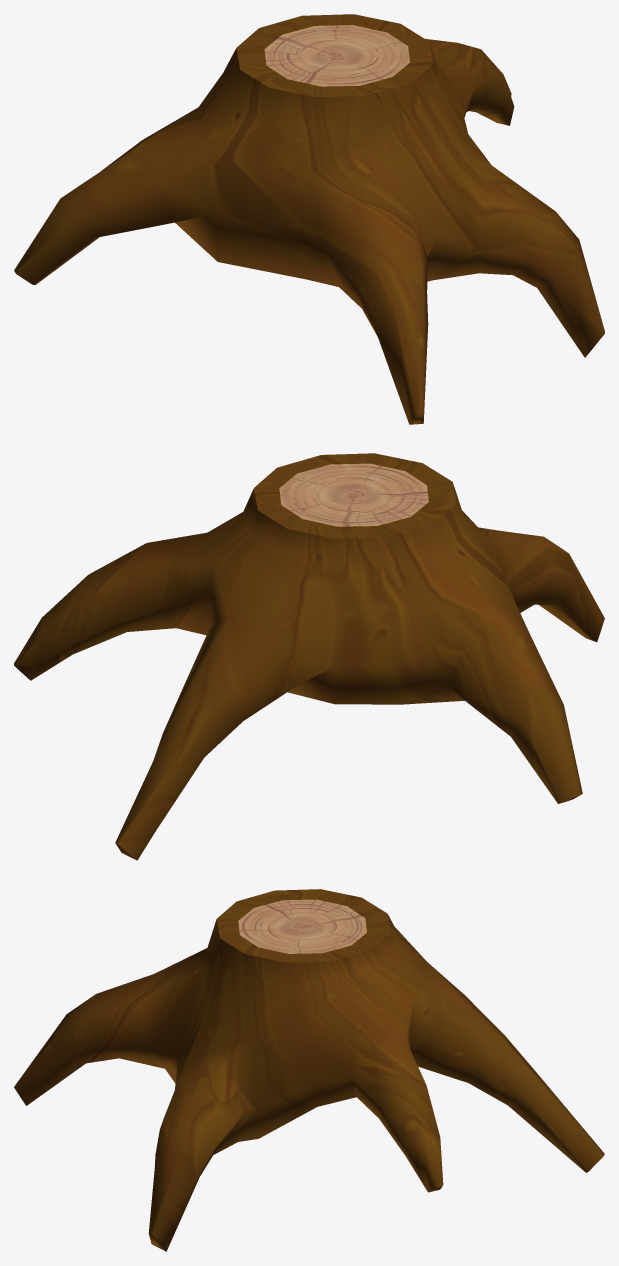
Rendered from obj_harvests_trees_leafy03_p00.fbx.
3 renders of one model, top to bottom at view 1: azimuth 30°, elevation 25°; view 2: azimuth 150°, elevation 25°; view 3: azimuth 270°, elevation 25°, orthographic. The views are drawn at different scales.
Parts seen in each view (by area): view 1: chunk00; view 2: chunk00; view 3: chunk00.
Boxes of the visible parts, left/top/right/bottom form: chunk00: left=14, top=14, right=604, bottom=424; chunk00: left=14, top=453, right=604, bottom=860; chunk00: left=14, top=889, right=604, bottom=1251.
Size of the model in its own units: 10.46 by 5.39 by 11.5.
